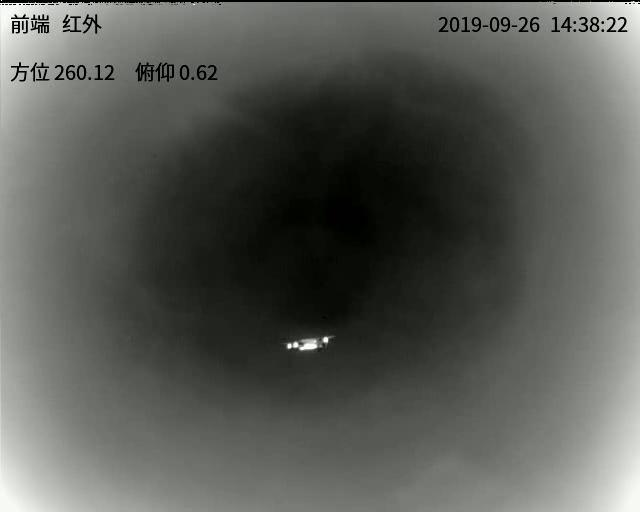DRONE: (285, 333, 333, 354)
